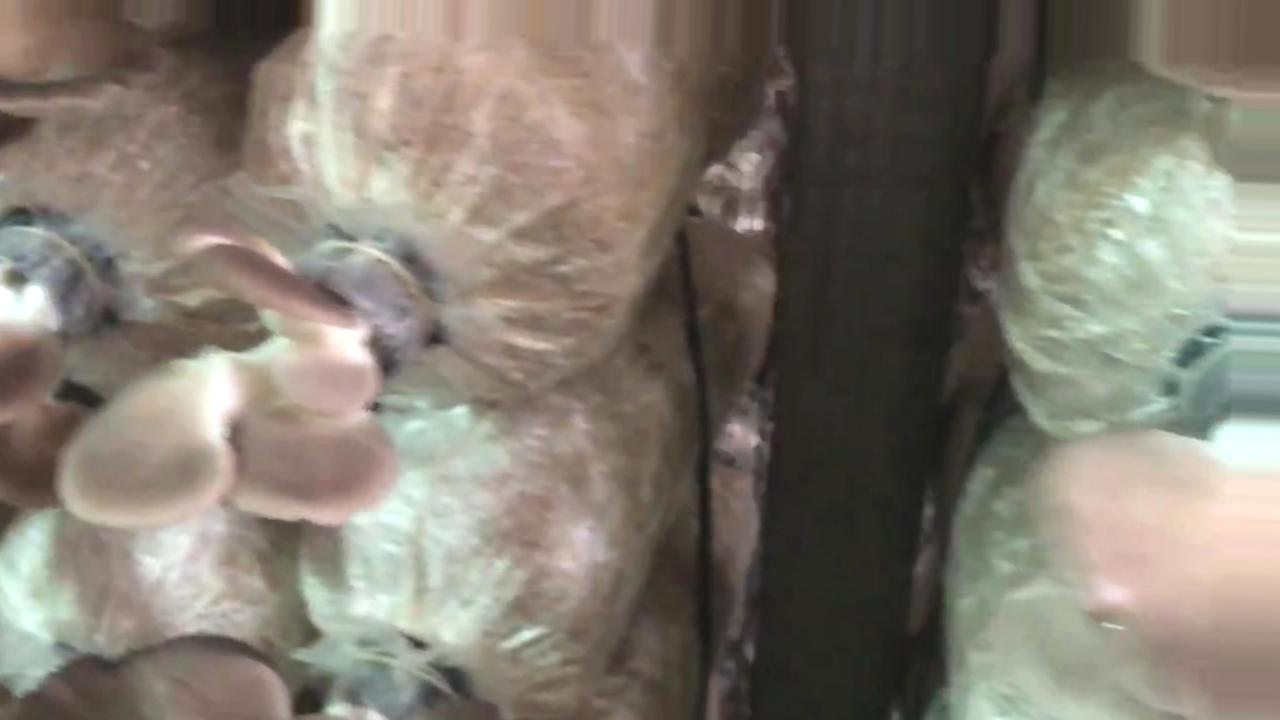nam: (59, 221, 439, 537), (1028, 392, 1280, 715), (13, 635, 316, 720)
